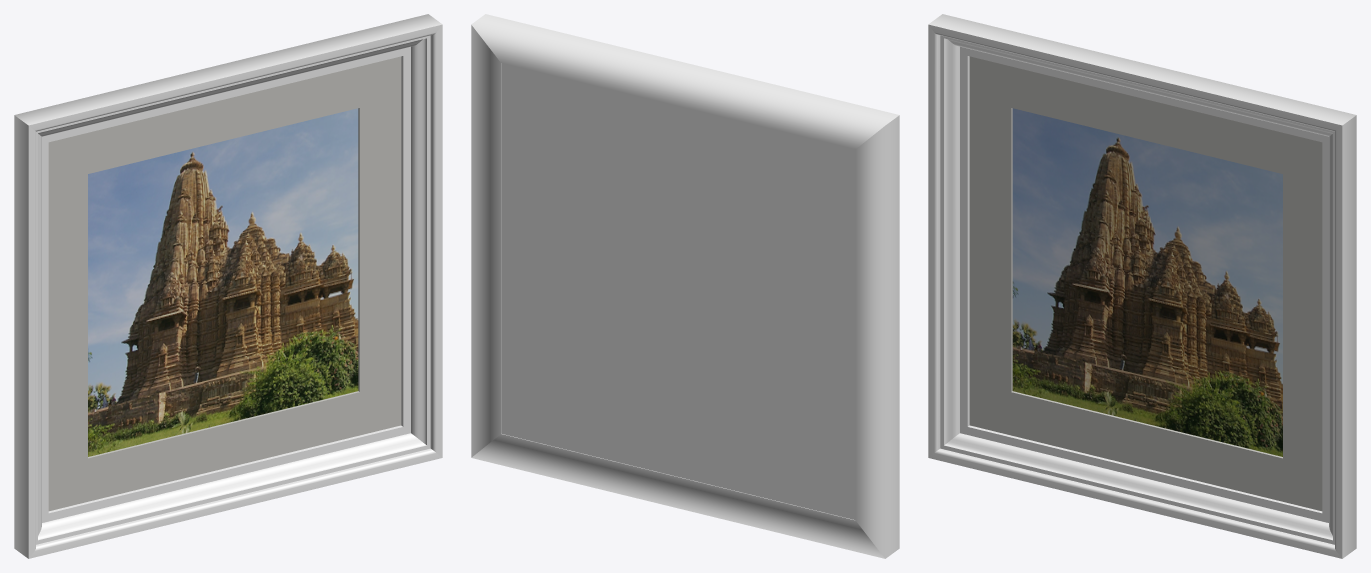
The model's file is Picture 4.FBX.
3 views of the same model, side by side, from view 1: azimuth 30°, elevation 25°; view 2: azimuth 150°, elevation 25°; view 3: azimuth 330°, elevation 25° (orthographic).
Visible parts, largest first — view 1: Picture 4; view 2: Picture 4; view 3: Picture 4.
Part boxes in pixels (x1=…): Picture 4: x1=14, y1=14, x2=442, y2=558; Picture 4: x1=471, y1=14, x2=899, y2=558; Picture 4: x1=928, y1=14, x2=1356, y2=558.
Size of the model in its own units: 50 by 50 by 3.
1 material, 1 textured.
